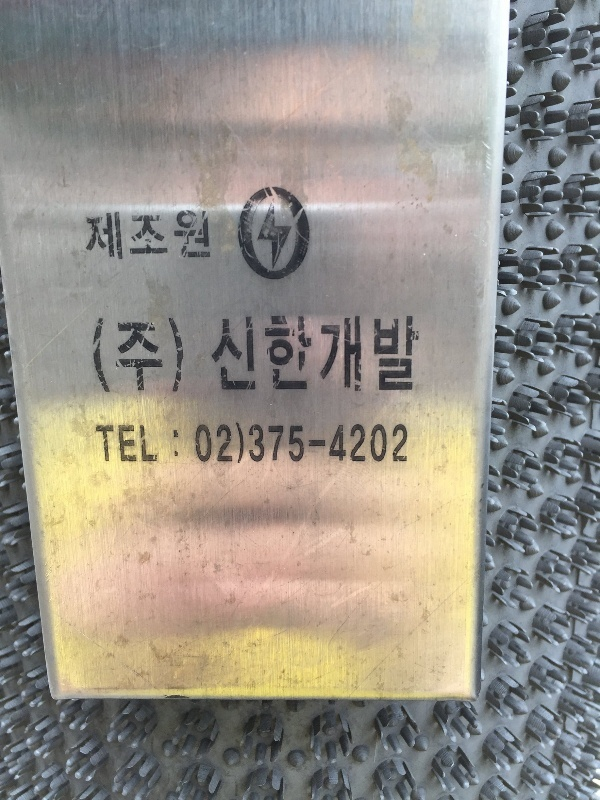text: (225, 310, 240, 400), (241, 310, 256, 400), (257, 310, 272, 400), (273, 310, 288, 400), (289, 310, 304, 400), (305, 310, 320, 400), (321, 310, 336, 400), (337, 310, 352, 400), (353, 310, 368, 400), (369, 310, 384, 400), (385, 310, 400, 400), (401, 310, 416, 400), (97, 313, 112, 402), (113, 313, 128, 402), (129, 313, 144, 402), (145, 313, 160, 402), (161, 313, 176, 402), (210, 310, 224, 400), (97, 205, 112, 272), (113, 205, 128, 272), (129, 205, 144, 272), (145, 205, 160, 272), (161, 205, 176, 272), (177, 205, 192, 272), (193, 205, 208, 272), (177, 313, 188, 402), (97, 417, 112, 472), (113, 417, 128, 472), (129, 417, 144, 472), (145, 417, 160, 472), (161, 417, 176, 472), (177, 417, 192, 472), (193, 417, 208, 472), (209, 417, 224, 472), (225, 417, 240, 472), (241, 417, 256, 472), (257, 417, 272, 472), (273, 417, 288, 472), (289, 417, 304, 472), (305, 417, 320, 472), (321, 417, 336, 472), (337, 417, 352, 472), (353, 417, 368, 472), (369, 417, 384, 472), (385, 417, 400, 472), (84, 205, 96, 272), (401, 417, 411, 472), (417, 310, 423, 400), (90, 313, 96, 402), (209, 205, 215, 272), (95, 417, 96, 472)
